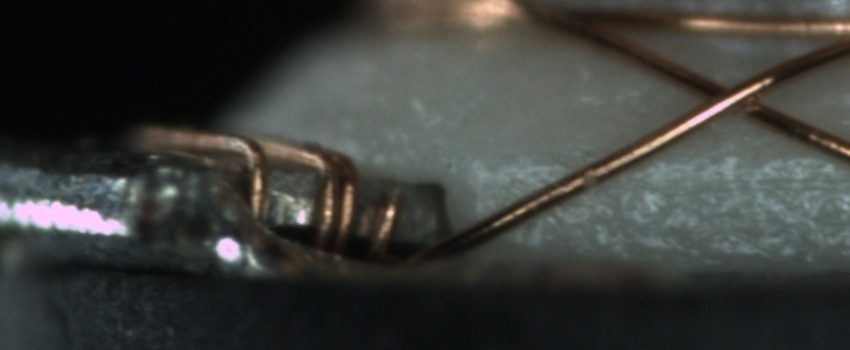CL: (680, 68, 784, 125)
DL: (594, 149, 849, 215)
TE: (122, 123, 404, 257)
